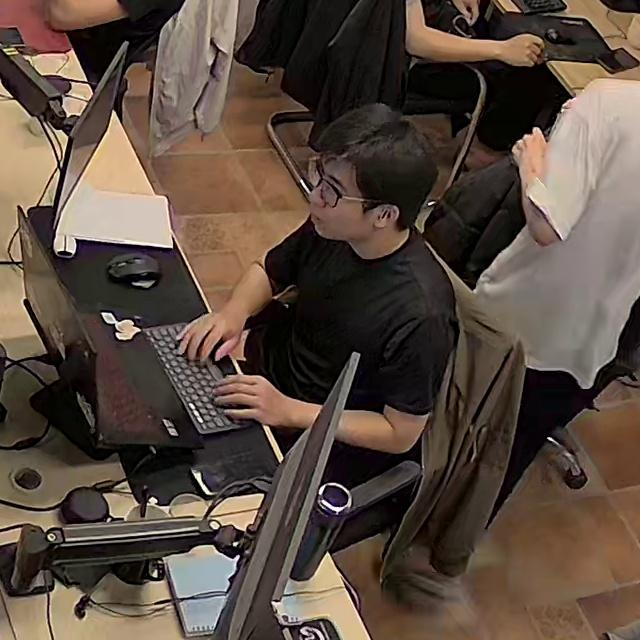no_helmet: (308, 97, 440, 232)
none: (244, 214, 457, 437)
